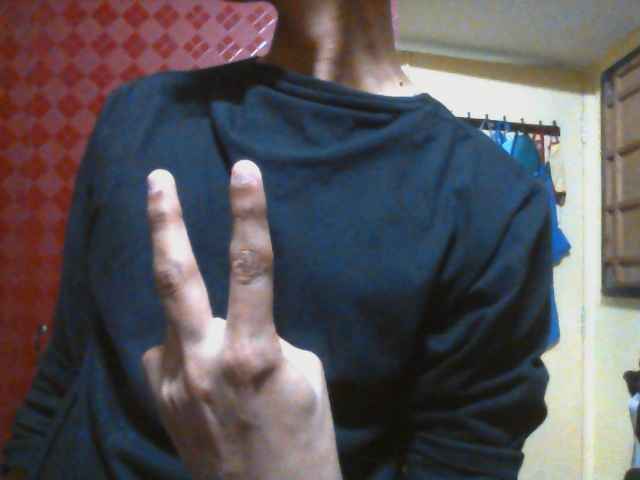V: (127, 157, 345, 463)
